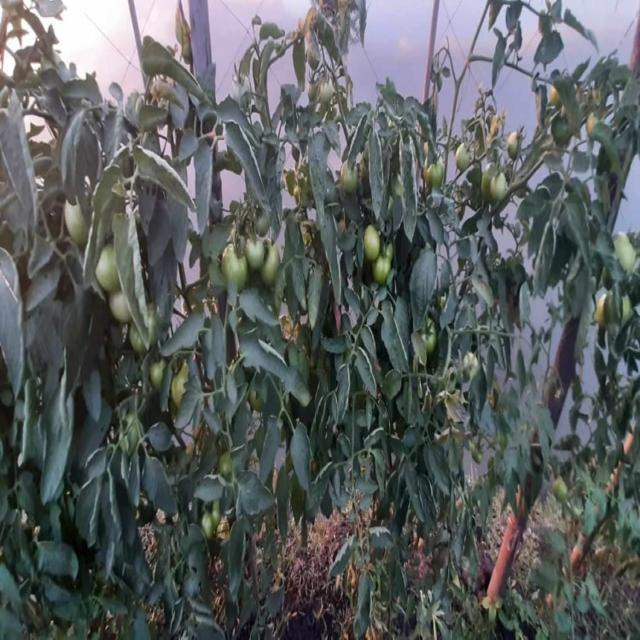tomato: (163, 362, 212, 416), (592, 291, 640, 330), (128, 312, 162, 358), (89, 241, 123, 285), (219, 241, 244, 296), (357, 222, 389, 263), (259, 233, 283, 287), (63, 195, 91, 239), (365, 251, 398, 286), (241, 234, 268, 275), (107, 286, 143, 316), (612, 230, 640, 268), (334, 162, 358, 199), (503, 131, 531, 162), (486, 172, 512, 204), (145, 359, 173, 386), (198, 511, 225, 539), (311, 82, 341, 106), (455, 142, 480, 168), (426, 164, 443, 193)
